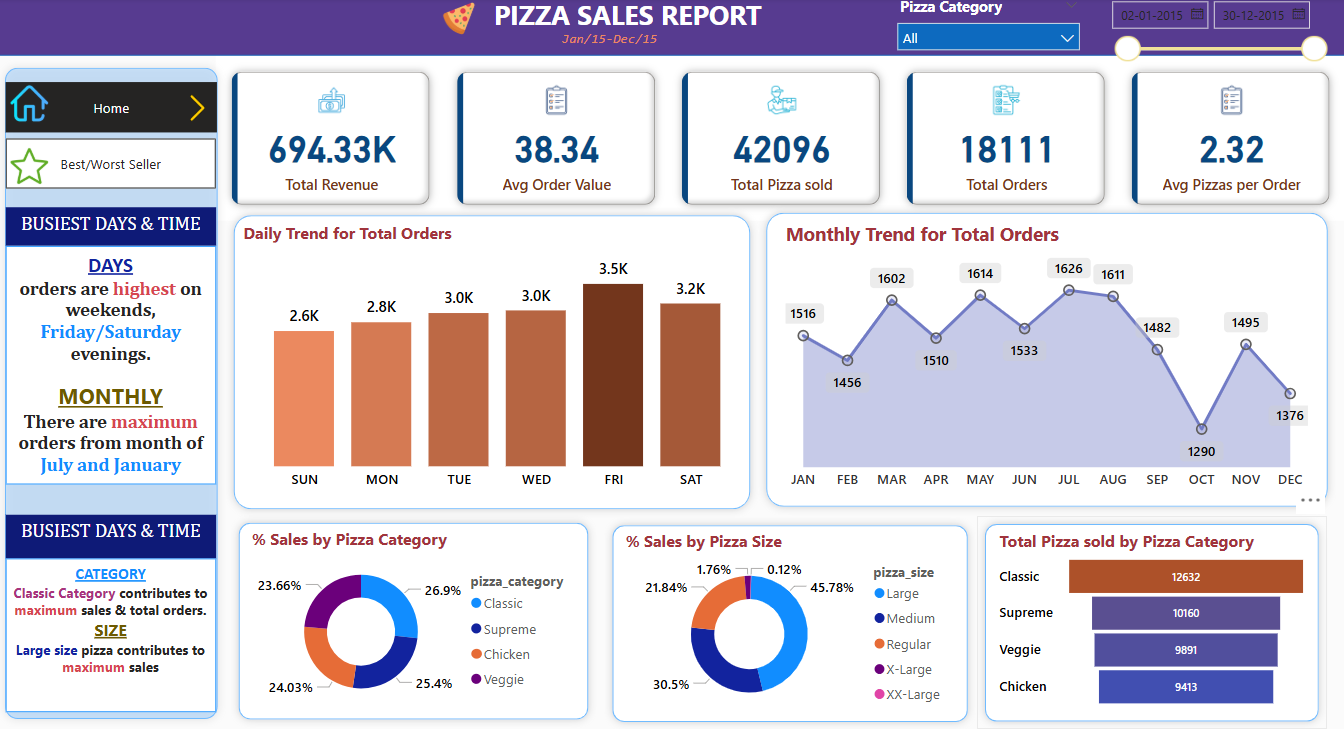

This screenshot's page, from the dashboard's own definition file:
{"tool":"powerbi","page":{"name":"Home","canvas":[1500,820],"ordinal":0},"visuals":[{"type":"cardVisual","fields":{"Data":["pizza_sales.Total Revenue","pizza_sales.Avg Order Value","pizza_sales.Total Pizza sold","pizza_sales.Total Orders","pizza_sales.Avg Pizzas per Order"]},"box":[218.8,65,1133.8,165],"z":0},{"type":"shape","box":[0,68.8,228.8,667.5],"z":1000},{"type":"shape","box":[0,0,1350,65],"z":2000},{"type":"textbox","box":[475,0,311.2,48.8],"z":3000},{"type":"textbox","box":[475,32.5,275,32.5],"z":4000},{"type":"image","box":[417.5,6.2,88.8,42.5],"z":5000},{"type":"shape","box":[228.8,216.2,532.5,310],"z":6000},{"type":"columnChart","title":"Daily Trend for Total Orders","fields":{"Category":["pizza_sales.Order Day"],"Y":["pizza_sales.Total Orders"]},"box":[241.2,230,520,277.5],"z":7000},{"type":"shape","box":[761.2,213.8,577.5,310],"z":8000},{"type":"areaChart","title":"Monthly Trend for Total Orders","fields":{"Category":["pizza_sales.Order Month"],"Y":["pizza_sales.Total Orders"]},"box":[783.8,230,532.5,277.5],"z":9000},{"type":"shape","box":[234.3,524.3,365.7,212.9],"z":10000},{"type":"shape","box":[607.1,525.7,371.4,212.9],"z":11000},{"type":"shape","box":[980,525,350,213.8],"z":12000},{"type":"donutChart","title":"% Sales by Pizza Category","fields":{"Category":["pizza_sales.pizza_category"],"Y":["pizza_sales.Total Revenue"]},"box":[250,536.2,337.5,187.5],"z":13000},{"type":"donutChart","title":"% Sales by Pizza Size","fields":{"Category":["pizza_sales.pizza_size"],"Y":["pizza_sales.Total Revenue"]},"box":[623.8,538.8,337.5,187.5],"z":14000},{"type":"funnel","title":"Total Pizza sold by Pizza Category","fields":{"Category":["pizza_sales.pizza_category"],"Y":["pizza_sales.Total Pizza sold"]},"box":[997.5,538.8,318.8,182.5],"z":15000},{"type":"textbox","box":[8.8,216.2,210,38.8],"z":16000},{"type":"textbox","box":[8.8,255,210,238.8],"z":17000},{"type":"textbox","box":[8.8,523.8,210,43.8],"z":18000},{"type":"textbox","box":[8.8,567.5,210,153.8],"z":19000},{"type":"slicer","fields":{"Values":["pizza_sales.pizza_category"]},"box":[890,0,203,65],"z":21000},{"type":"slicer","fields":{"Values":["pizza_sales.order_date"]},"box":[1103,0,236,91],"z":22000},{"type":"pageNavigator","box":[8.8,91.2,211.2,50],"z":22001},{"type":"pageNavigator","box":[8.8,147.5,210,50],"z":22002},{"type":"image","box":[182.5,83.8,36.2,66.2],"z":22003},{"type":"image","box":[8.8,68.8,47.5,87.5],"z":22004},{"type":"image","box":[1455,230,12.5,82.5],"z":22005},{"type":"image","box":[8.8,136.2,47.5,77.5],"z":22006}]}

Visuals, with their boxes in screenshot pixels (x1, y1, x2, y2), scaled from the page's 1500x820 canvas onto the 1344x729 screenshot:
cardVisual - pizza_sales.Total Revenue x pizza_sales.Avg Order Value: [x1=196, y1=58, x2=1212, y2=204]
shape: [x1=0, y1=61, x2=205, y2=655]
shape: [x1=0, y1=0, x2=1210, y2=58]
textbox: [x1=426, y1=0, x2=704, y2=43]
textbox: [x1=426, y1=29, x2=672, y2=58]
image: [x1=374, y1=6, x2=454, y2=43]
shape: [x1=205, y1=192, x2=682, y2=468]
"Daily Trend for Total Orders" columnChart: [x1=216, y1=204, x2=682, y2=451]
shape: [x1=682, y1=190, x2=1199, y2=466]
"Monthly Trend for Total Orders" areaChart: [x1=702, y1=204, x2=1179, y2=451]
shape: [x1=210, y1=466, x2=538, y2=655]
shape: [x1=544, y1=467, x2=877, y2=657]
shape: [x1=878, y1=467, x2=1192, y2=657]
"% Sales by Pizza Category" donutChart: [x1=224, y1=477, x2=526, y2=643]
"% Sales by Pizza Size" donutChart: [x1=559, y1=479, x2=861, y2=646]
"Total Pizza sold by Pizza Category" funnel: [x1=894, y1=479, x2=1179, y2=641]
textbox: [x1=8, y1=192, x2=196, y2=227]
textbox: [x1=8, y1=227, x2=196, y2=439]
textbox: [x1=8, y1=466, x2=196, y2=505]
textbox: [x1=8, y1=505, x2=196, y2=641]
slicer - pizza_sales.pizza_category: [x1=797, y1=0, x2=979, y2=58]
slicer - pizza_sales.order_date: [x1=988, y1=0, x2=1200, y2=81]
pageNavigator: [x1=8, y1=81, x2=197, y2=126]
pageNavigator: [x1=8, y1=131, x2=196, y2=176]
image: [x1=164, y1=75, x2=196, y2=133]
image: [x1=8, y1=61, x2=50, y2=139]
image: [x1=1304, y1=204, x2=1315, y2=278]
image: [x1=8, y1=121, x2=50, y2=190]
